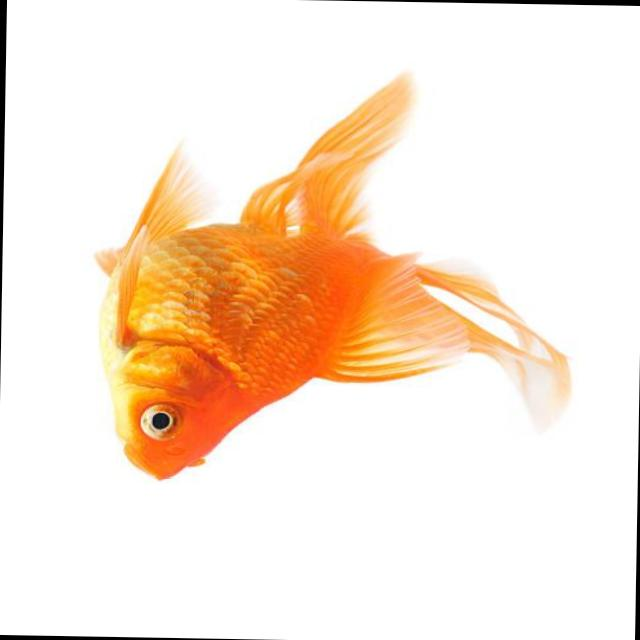GoldFish: (82, 67, 610, 506)
